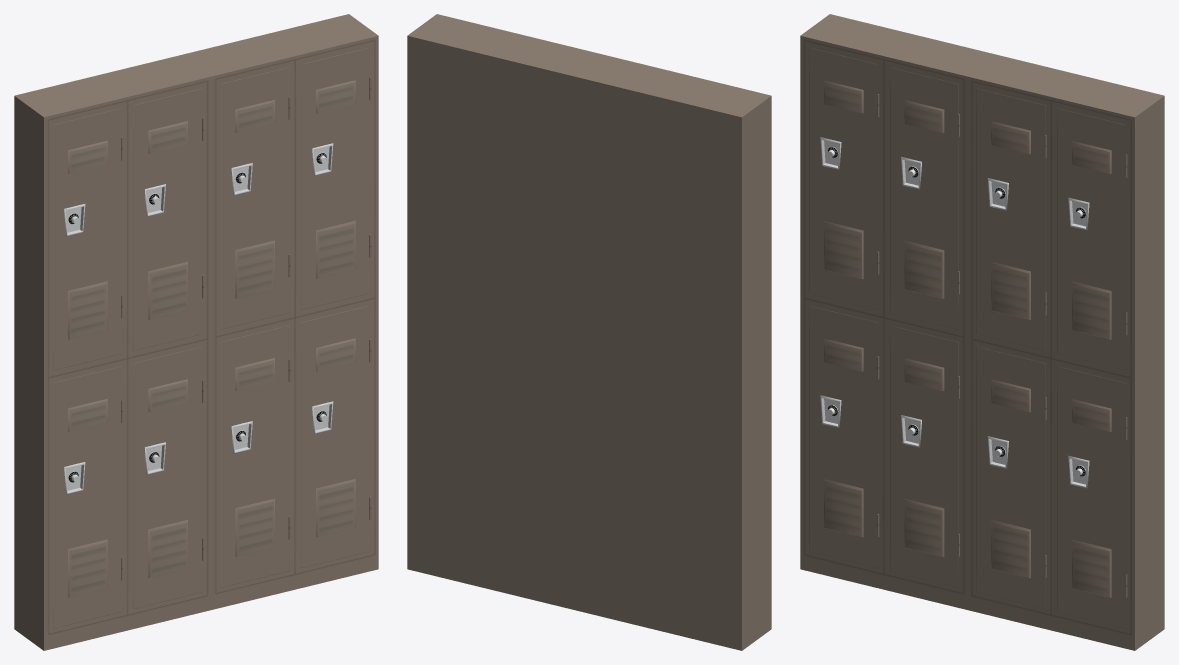
File: SchoolLocker01_3.FBX
The picture shows the model from 3 angles, left to right: view 1: azimuth 30°, elevation 25°; view 2: azimuth 150°, elevation 25°; view 3: azimuth 330°, elevation 25°; orthographic projection.
Visible parts, largest first — view 1: SchoolLocker01_3; view 2: SchoolLocker01_3; view 3: SchoolLocker01_3.
Boxes of the visible parts, left/top/right/bottom form: SchoolLocker01_3: left=14, top=14, right=378, bottom=650; SchoolLocker01_3: left=407, top=14, right=771, bottom=650; SchoolLocker01_3: left=800, top=14, right=1164, bottom=650.
Size of the model in its own units: 119 by 181 by 19.
